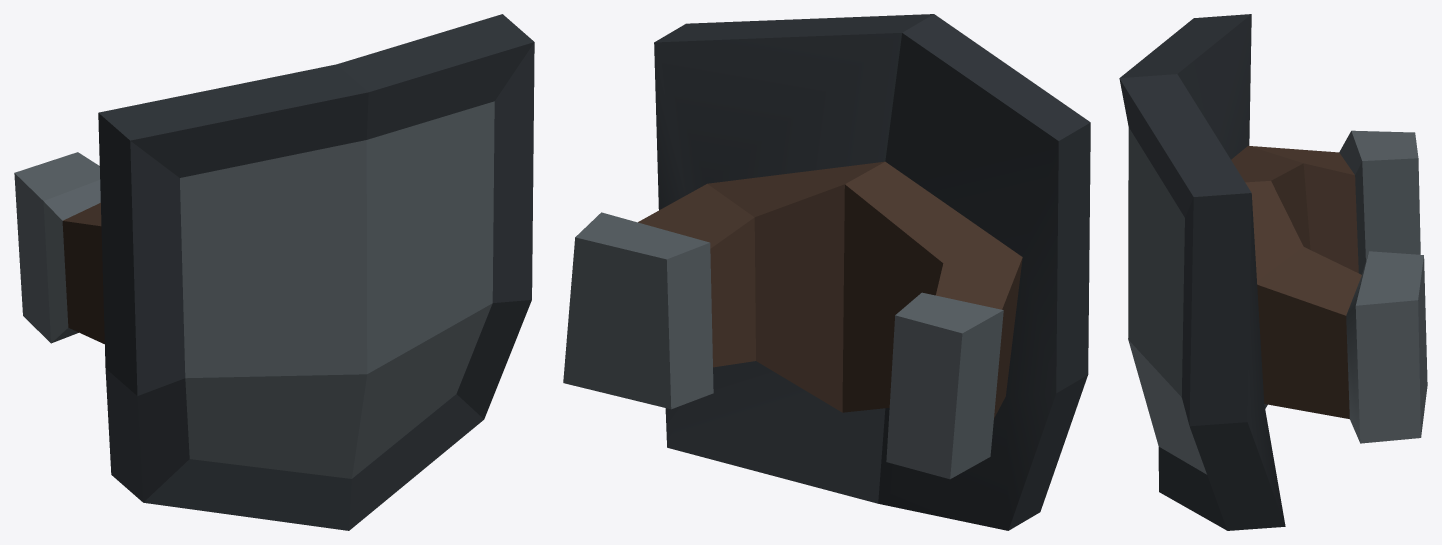
Rendered from Chr_KneeAttachRight_10_Static.fbx.
The picture shows the model from 3 angles, left to right: view 1: azimuth 30°, elevation 25°; view 2: azimuth 150°, elevation 25°; view 3: azimuth 270°, elevation 25°; orthographic projection. The views are drawn at different scales.
Visible parts, largest first — view 1: Chr_KneeAttachRight_10_Static; view 2: Chr_KneeAttachRight_10_Static; view 3: Chr_KneeAttachRight_10_Static.
Boxes of the visible parts, x1,y1,x2,y2 form: Chr_KneeAttachRight_10_Static: (14,14,534,530); Chr_KneeAttachRight_10_Static: (563,14,1090,530); Chr_KneeAttachRight_10_Static: (1119,14,1427,530).
Size of the model in its own units: 0.1513 by 0.1621 by 0.1086.
